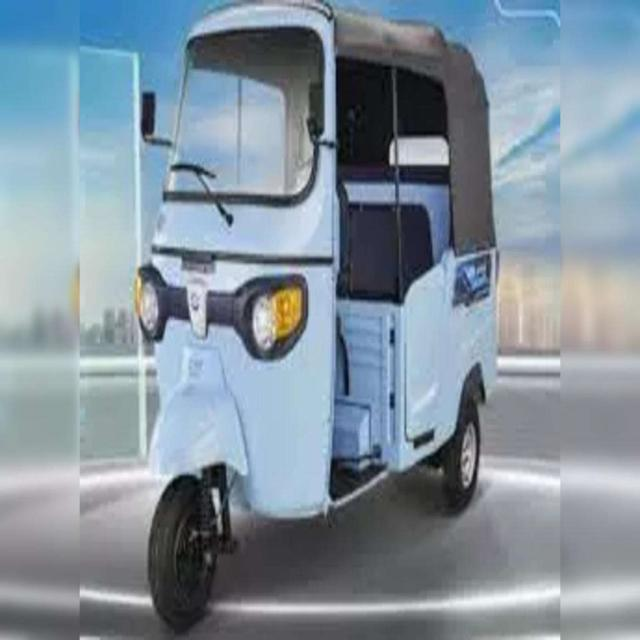autorickshaw: (135, 4, 498, 628)
